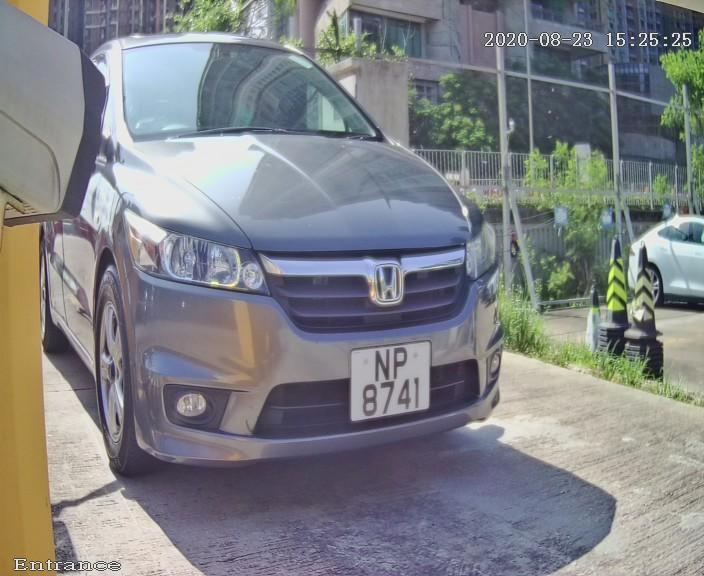Car: (16, 8, 551, 520)
License Plate: (340, 330, 437, 433)
